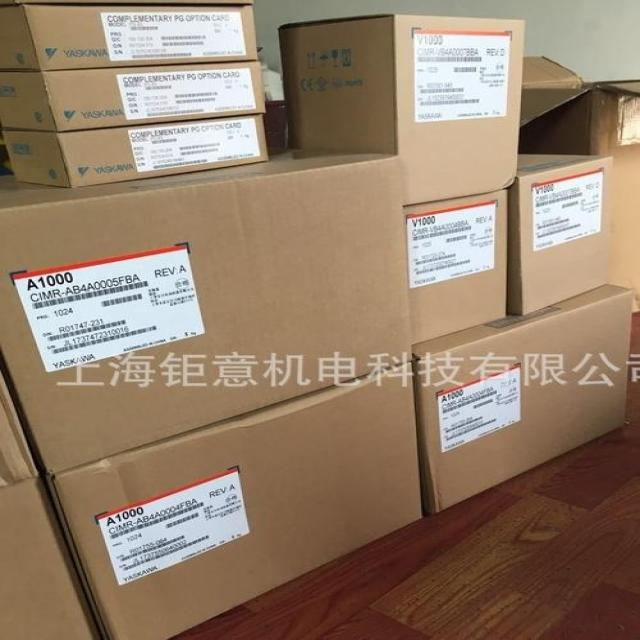Carton: (1, 155, 508, 639), (1, 1, 269, 187), (279, 15, 527, 203), (421, 293, 630, 512), (516, 156, 612, 309)
